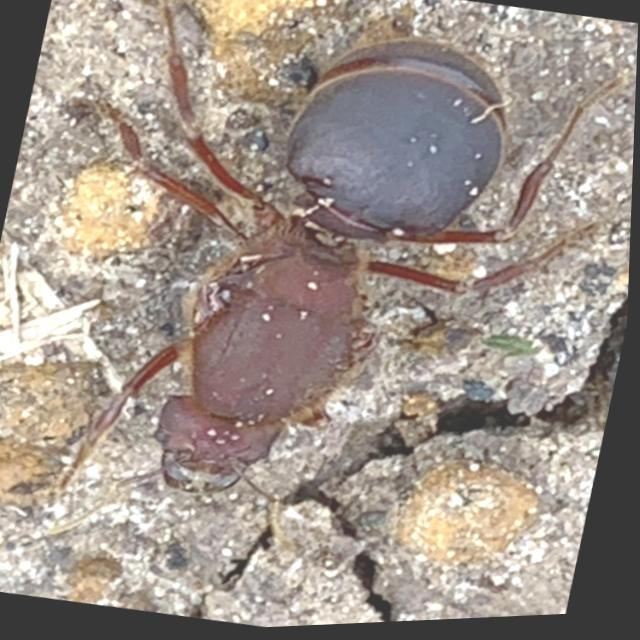Alive-Female-Dealate: (24, 0, 640, 576)
